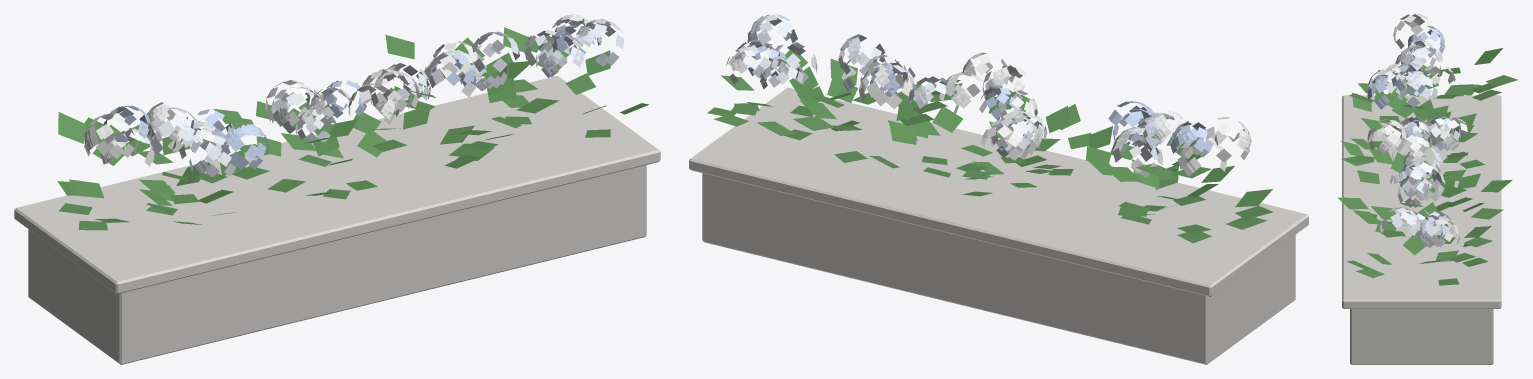
The model's file is planter_hydrangea.glb.
3 renders of one model, left to right at view 1: azimuth 30°, elevation 25°; view 2: azimuth 150°, elevation 25°; view 3: azimuth 270°, elevation 25°, orthographic. The views are drawn at different scales.
Parts seen in each view (by area): view 1: planter_hydrangea; view 2: planter_hydrangea; view 3: planter_hydrangea.
Boxes of the visible parts, box(x1,y1,x2,y2) form: planter_hydrangea: box(14, 14, 660, 364); planter_hydrangea: box(689, 14, 1308, 364); planter_hydrangea: box(1337, 14, 1517, 364).
Bounding box in the file's own units: 3.85 × 1.38 × 1.39.
